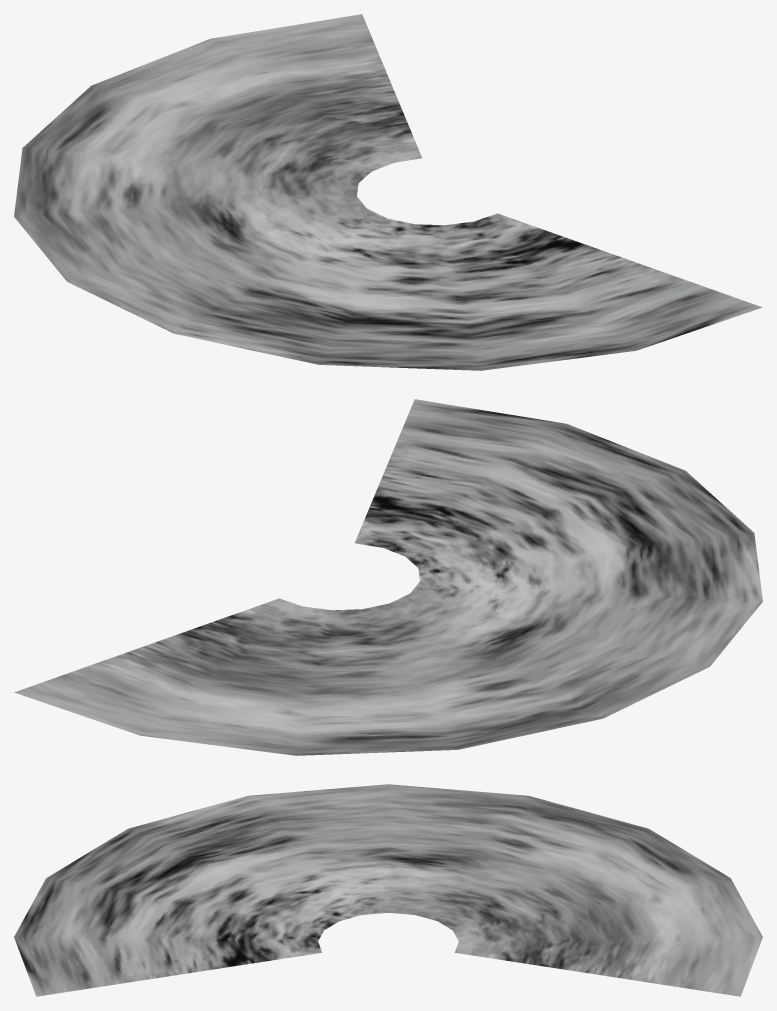
File: Amazon_shuibowen.FBX
3 renders of one model, top to bottom at view 1: azimuth 30°, elevation 25°; view 2: azimuth 150°, elevation 25°; view 3: azimuth 270°, elevation 25°, orthographic. The views are drawn at different scales.
Visible parts, largest first — view 1: Amazon_shuibowen; view 2: Amazon_shuibowen; view 3: Amazon_shuibowen.
Part boxes in pixels (x1,y1,x2,y2): Amazon_shuibowen: (14,14,762,370); Amazon_shuibowen: (14,399,762,755); Amazon_shuibowen: (14,784,762,996).
Bounding box in the file's own units: 580 × 3.23e-05 × 864.
